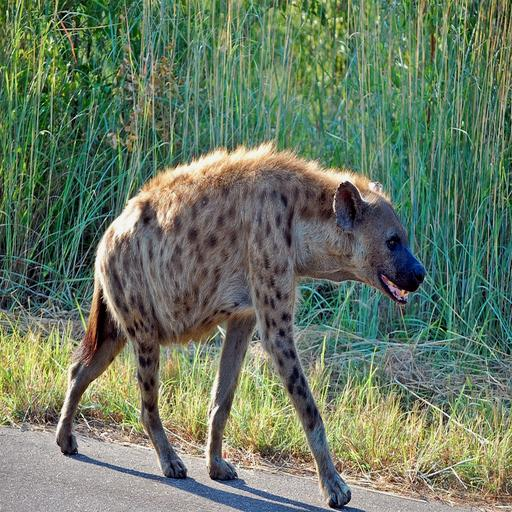hyenas: (54, 128, 426, 512)
